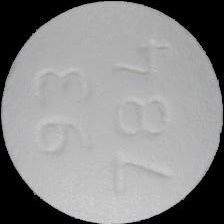54868-3004: (0, 0, 224, 224)
